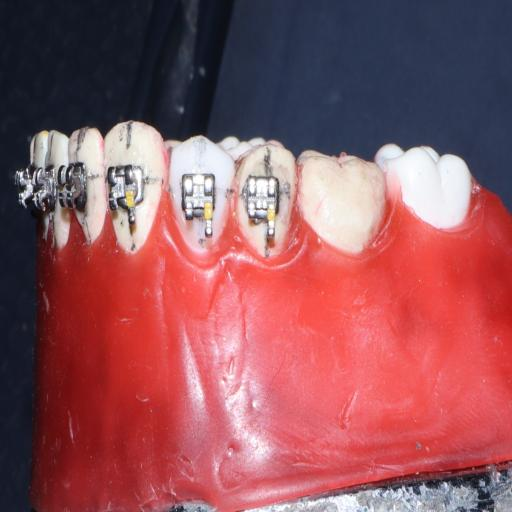incorrect_brace: (246, 173, 280, 225)
